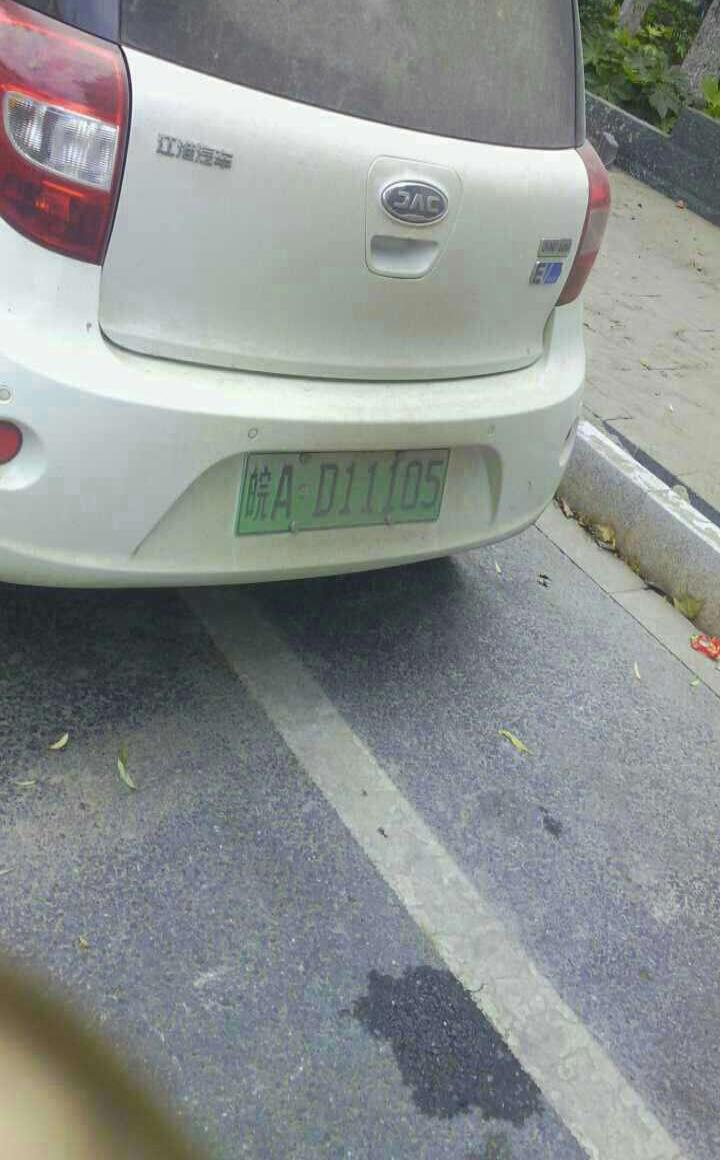car_id: (237, 448, 451, 534)
